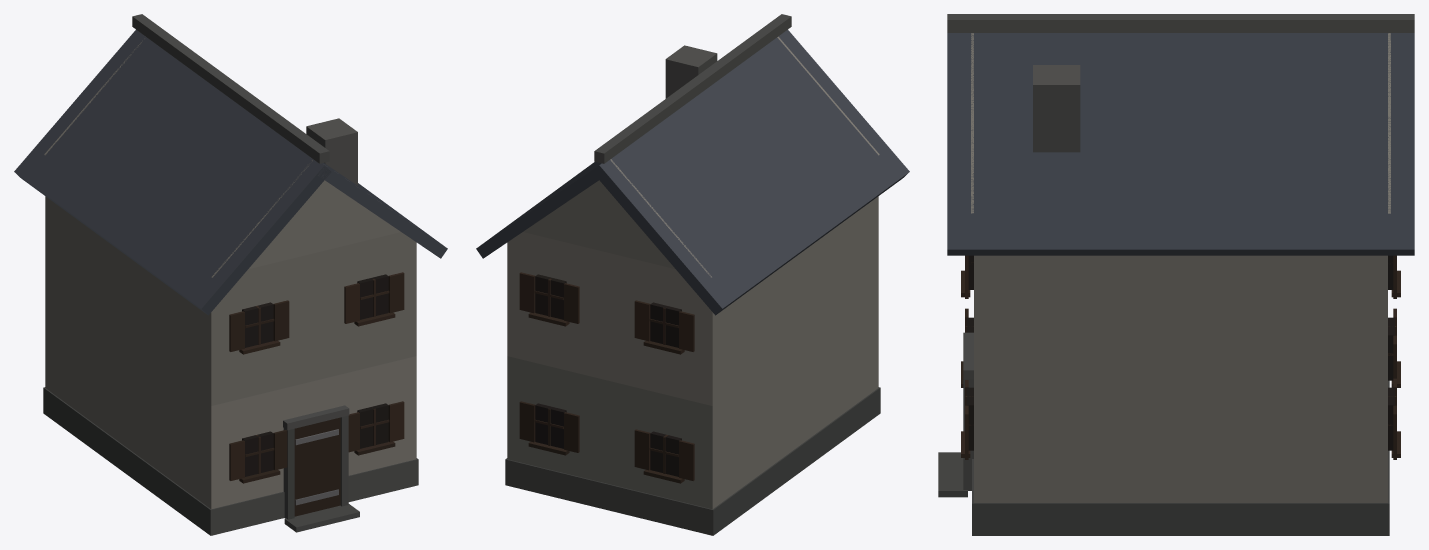
File: walk_freehold_row.glb
3 renders of one model, left to right at view 1: azimuth 30°, elevation 25°; view 2: azimuth 150°, elevation 25°; view 3: azimuth 270°, elevation 25°, orthographic. The views are drawn at different scales.
Parts seen in each view (by area): view 1: walk_freehold_row, walk_freehold_row_roof; view 2: walk_freehold_row, walk_freehold_row_roof; view 3: walk_freehold_row, walk_freehold_row_roof.
Part boxes in pixels (x1,y1,x2,y2): walk_freehold_row: (43, 196, 418, 535); walk_freehold_row_roof: (14, 14, 447, 315); walk_freehold_row: (505, 196, 880, 535); walk_freehold_row_roof: (476, 14, 909, 315); walk_freehold_row: (938, 255, 1400, 535); walk_freehold_row_roof: (947, 14, 1414, 255).
Size of what is drawn, in the model's own units: 6 by 8.6 by 8.05.
2 materials, 2 textured.
